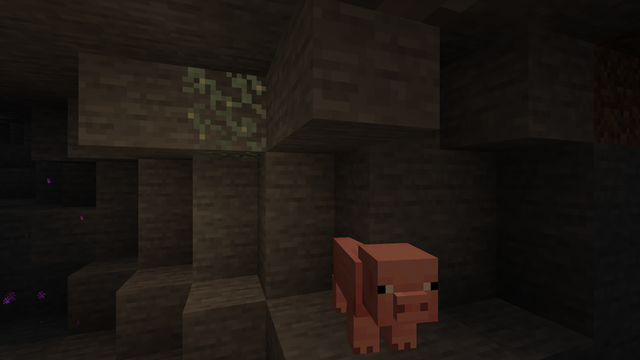cochons: (318, 236, 431, 355)
